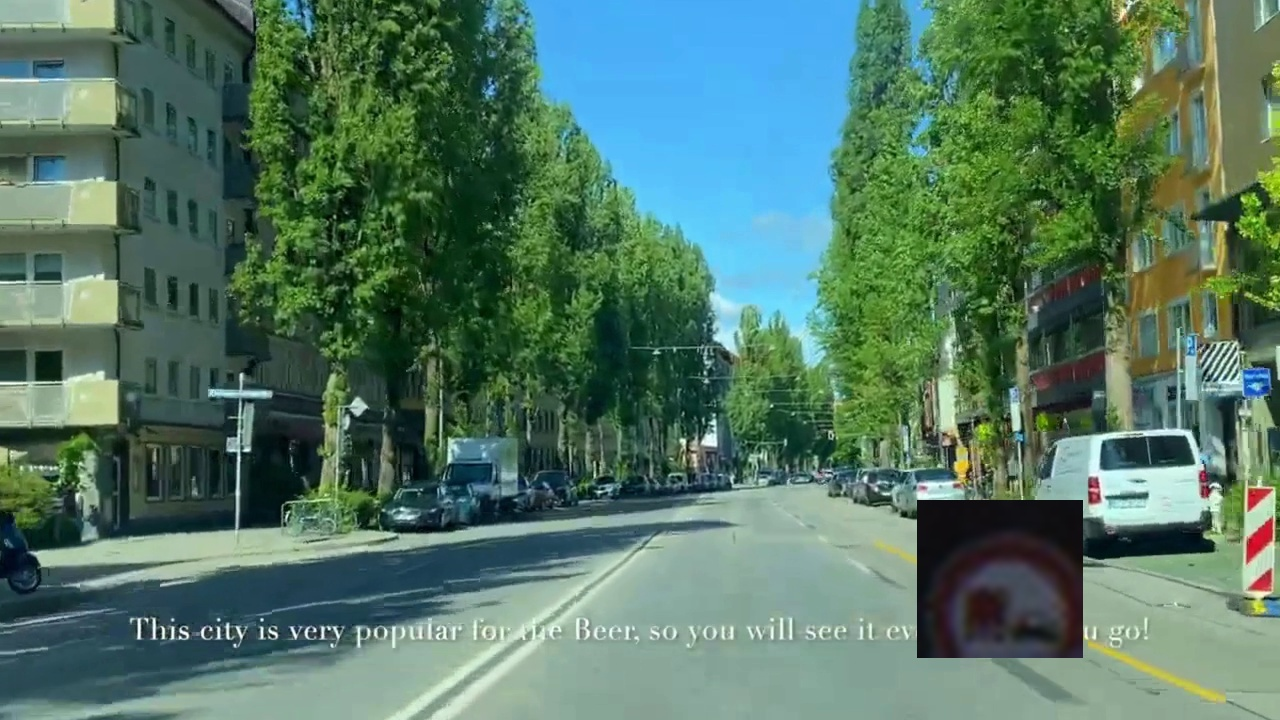No pass >3.5t: (917, 500, 1083, 658)
